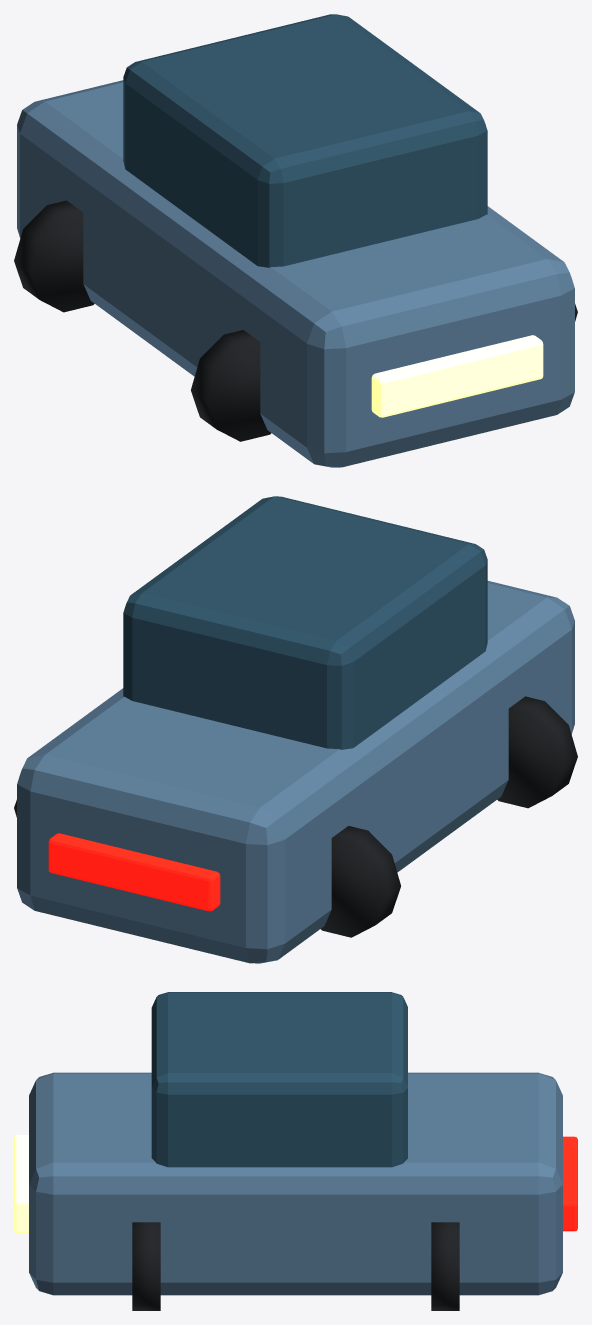
Rendered from car_sedan.glb.
The picture shows the model from 3 angles, top to bottom: view 1: azimuth 30°, elevation 25°; view 2: azimuth 150°, elevation 25°; view 3: azimuth 270°, elevation 25°; orthographic projection. The views are drawn at different scales.
Visible parts, largest first — view 1: vehicle_body, vehicle_cabin, headlights, vehicle_wheel, vehicle_wheel.001; view 2: vehicle_body, vehicle_cabin, taillights, vehicle_wheel.001, vehicle_wheel; view 3: vehicle_body, vehicle_cabin, vehicle_wheel.002, vehicle_wheel.003, headlights, taillights.
Part boxes in pixels (bbox=[...]): vehicle_body: bbox=[17, 80, 574, 467]; vehicle_cabin: bbox=[123, 14, 487, 267]; headlights: bbox=[371, 335, 543, 417]; vehicle_wheel: bbox=[14, 200, 94, 312]; vehicle_wheel.001: bbox=[191, 330, 271, 441]; vehicle_body: bbox=[17, 581, 574, 963]; vehicle_cabin: bbox=[123, 496, 487, 749]; taillights: bbox=[48, 833, 220, 911]; vehicle_wheel.001: bbox=[497, 696, 577, 808]; vehicle_wheel: bbox=[321, 826, 400, 937]; vehicle_body: bbox=[29, 1072, 562, 1295]; vehicle_cabin: bbox=[151, 992, 407, 1167]; vehicle_wheel.002: bbox=[431, 1222, 459, 1310]; vehicle_wheel.003: bbox=[132, 1222, 160, 1310]; headlights: bbox=[14, 1135, 28, 1233]; taillights: bbox=[563, 1136, 577, 1231].
Size of the model in its own units: 0.4472 by 0.2961 by 0.697.
